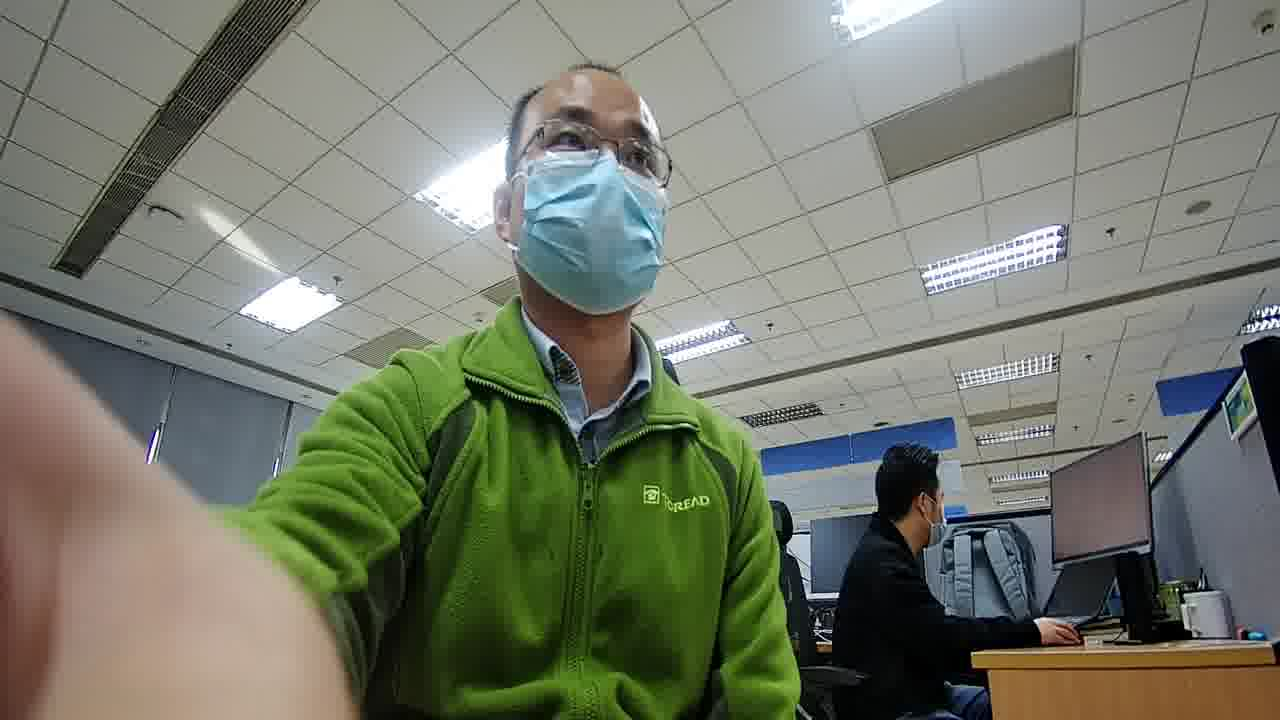face: (516, 85, 665, 312)
mask: (513, 148, 663, 313)
person: (346, 50, 739, 466), (842, 437, 954, 608)
